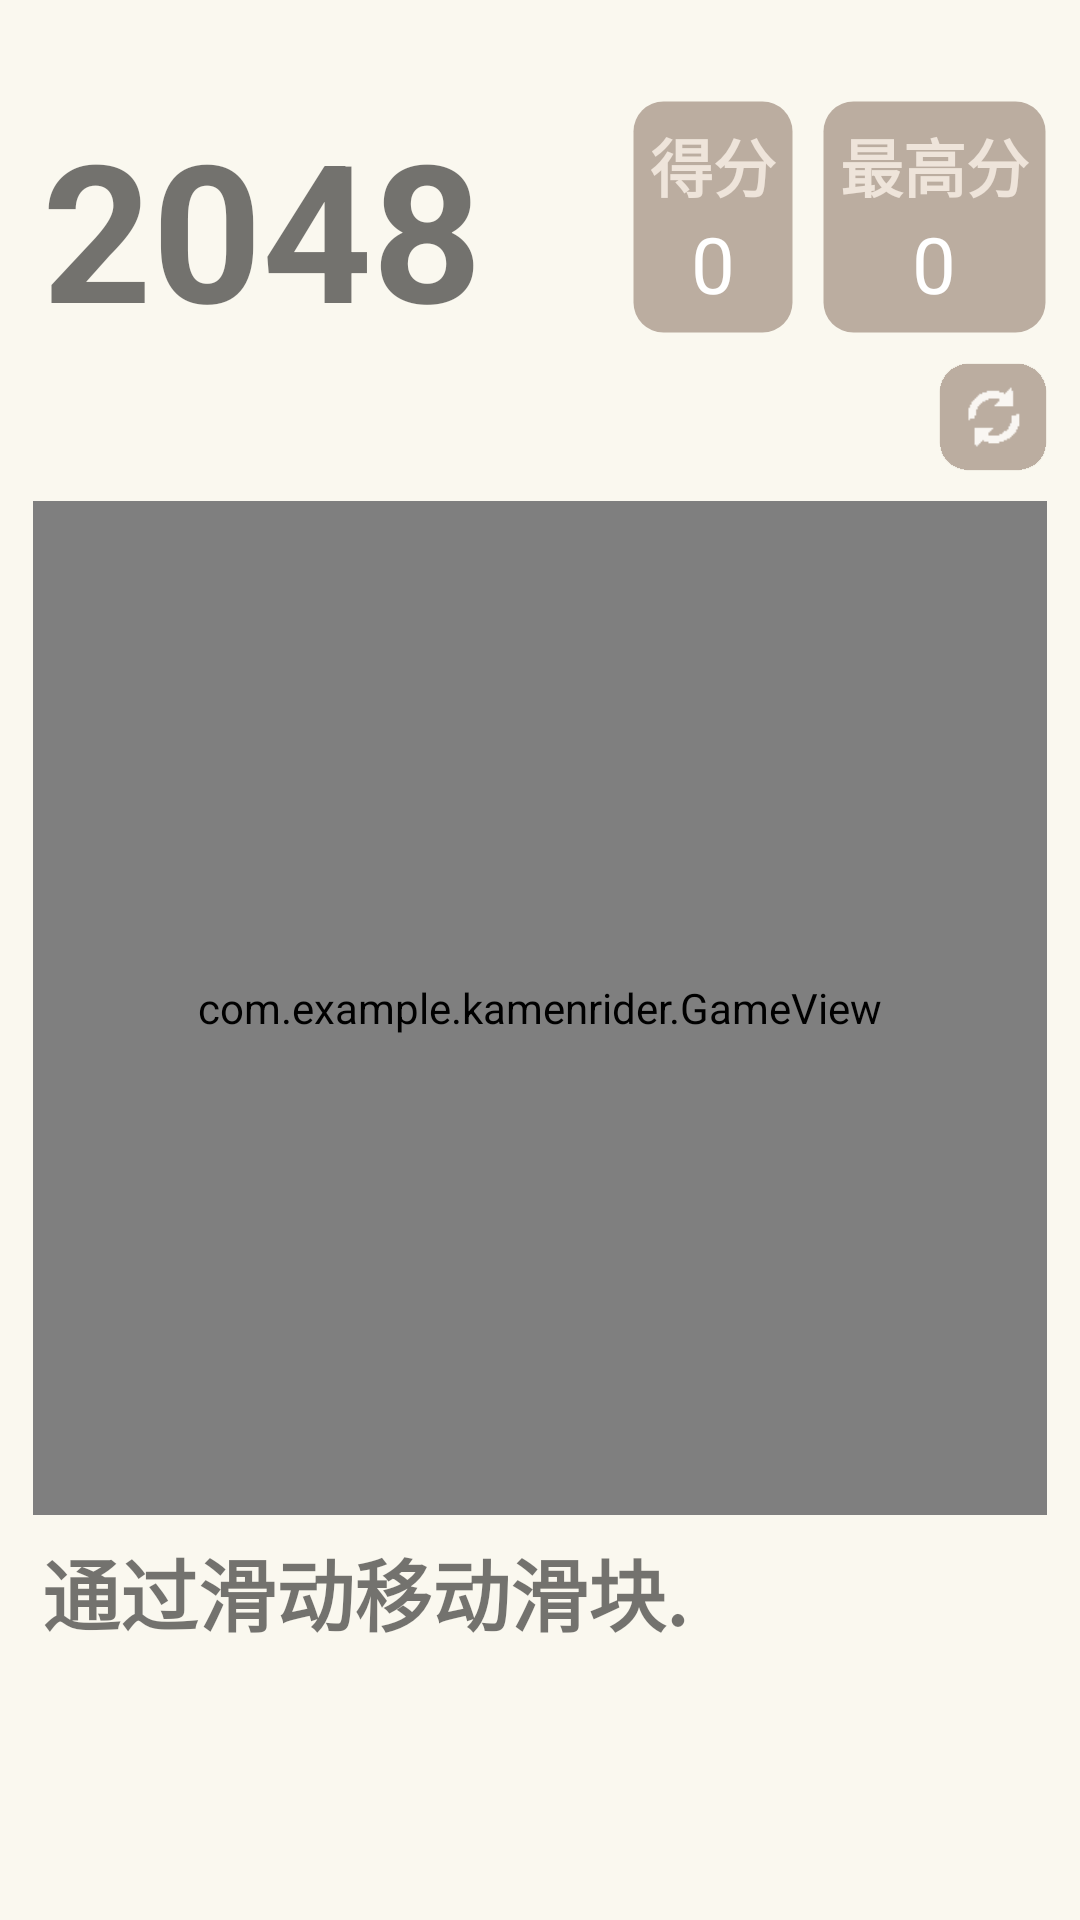

Named icons in this screenshot (1080 x 1920) and their bounding boxes, [left=x1, top=y1, right=x2, bottom=y2]:
restart: [left=940, top=364, right=1046, bottom=470]
